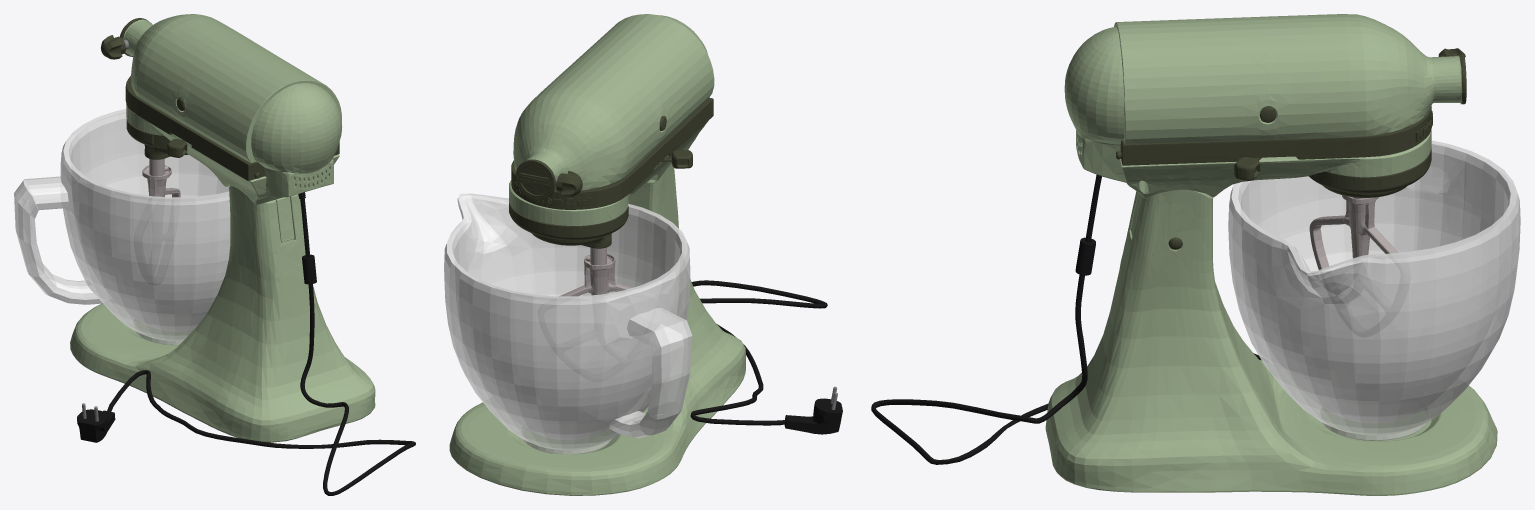
File: mixer_green_glass.glb
The picture shows the model from 3 angles, left to right: view 1: azimuth 30°, elevation 25°; view 2: azimuth 150°, elevation 25°; view 3: azimuth 270°, elevation 25°; orthographic projection. The views are drawn at different scales.
Visible parts, largest first — view 1: mesh_16, mesh_29, mesh_14, mesh_17, mesh_19, mesh_15, mesh_22; view 2: mesh_29, mesh_16, mesh_14, mesh_17, mesh_15, mesh_19, mesh_27, mesh_21, mesh_22; view 3: mesh_16, mesh_29, mesh_17, mesh_14, mesh_19, mesh_15.
Part boxes in pixels (bbox=[...]): mesh_16: bbox=[70, 14, 375, 442]; mesh_29: bbox=[14, 109, 230, 344]; mesh_14: bbox=[77, 192, 415, 495]; mesh_17: bbox=[125, 76, 339, 180]; mesh_19: bbox=[142, 158, 180, 197]; mesh_15: bbox=[126, 119, 170, 149]; mesh_22: bbox=[101, 35, 125, 59]; mesh_29: bbox=[444, 193, 692, 454]; mesh_16: bbox=[449, 14, 745, 495]; mesh_14: bbox=[690, 280, 842, 434]; mesh_17: bbox=[511, 97, 713, 209]; mesh_15: bbox=[509, 202, 628, 240]; mesh_19: bbox=[559, 247, 631, 296]; mesh_27: bbox=[515, 159, 555, 200]; mesh_21: bbox=[531, 233, 611, 248]; mesh_22: bbox=[556, 170, 582, 197]; mesh_16: bbox=[1045, 14, 1497, 495]; mesh_29: bbox=[1228, 140, 1520, 440]; mesh_17: bbox=[1116, 106, 1431, 165]; mesh_14: bbox=[871, 174, 1261, 464]; mesh_19: bbox=[1309, 195, 1398, 269]; mesh_15: bbox=[1308, 148, 1431, 193].
Bounding box in the file's own units: 0.1241 × 0.1288 × 0.1816.
